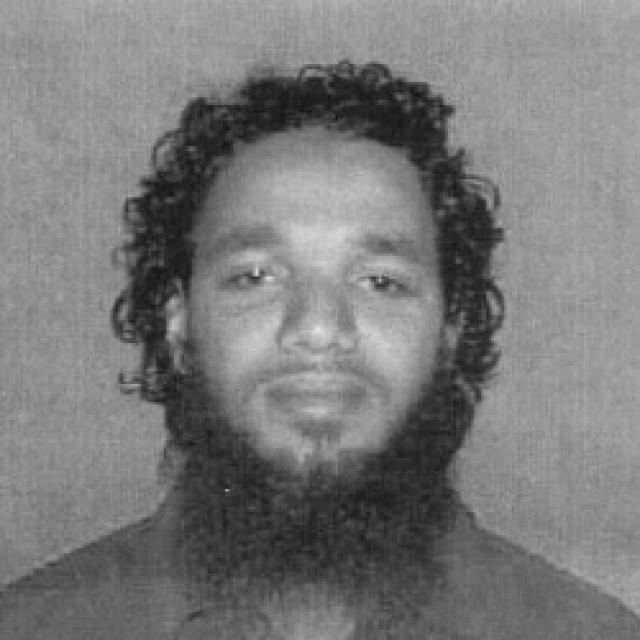real: (151, 112, 471, 500), (207, 240, 420, 319)
